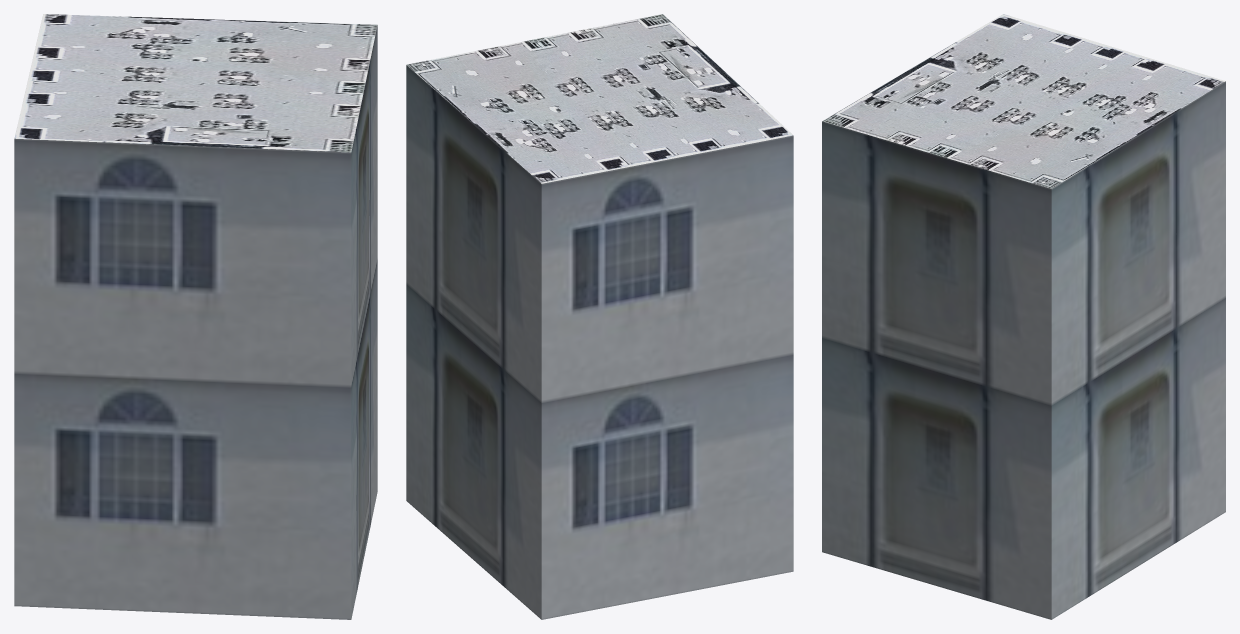
The model's file is ResTex__2271.fbx.
3 renders of one model, left to right at view 1: azimuth 30°, elevation 25°; view 2: azimuth 150°, elevation 25°; view 3: azimuth 270°, elevation 25°, orthographic. The views are drawn at different scales.
Visible parts, largest first — view 1: CityEngineMaterial_17_m, CityEngineMaterial_8_m; view 2: CityEngineMaterial_17_m, CityEngineMaterial_8_m; view 3: CityEngineMaterial_17_m, CityEngineMaterial_8_m.
Part boxes in pixels (box(x1,y1,x2,y2)): CityEngineMaterial_17_m: box(14, 25, 377, 619); CityEngineMaterial_8_m: box(14, 14, 377, 152); CityEngineMaterial_17_m: box(406, 65, 793, 619); CityEngineMaterial_8_m: box(406, 14, 793, 183); CityEngineMaterial_17_m: box(822, 81, 1225, 619); CityEngineMaterial_8_m: box(822, 14, 1225, 188).
Bounding box in the file's own units: 5.23 × 6 × 5.1.
Materials: 2 (2 with a texture image).
